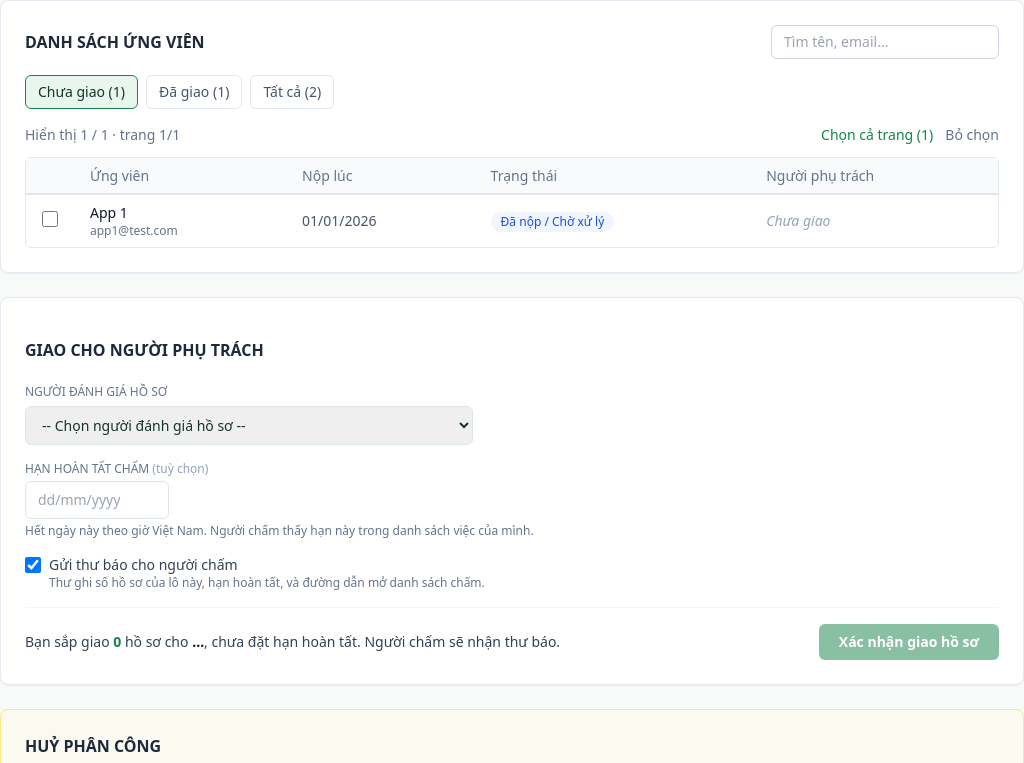
Hạn hoàn tất khi giao hồ sơ › NO_DUE_IS_SAID_OUT_LOUD: leaving it empty is visible before confirming
Select "Reviewer 1 — Người đánh giá hồ sơ" in the dropdown: (249, 426) left=25, top=406, right=473, bottom=445
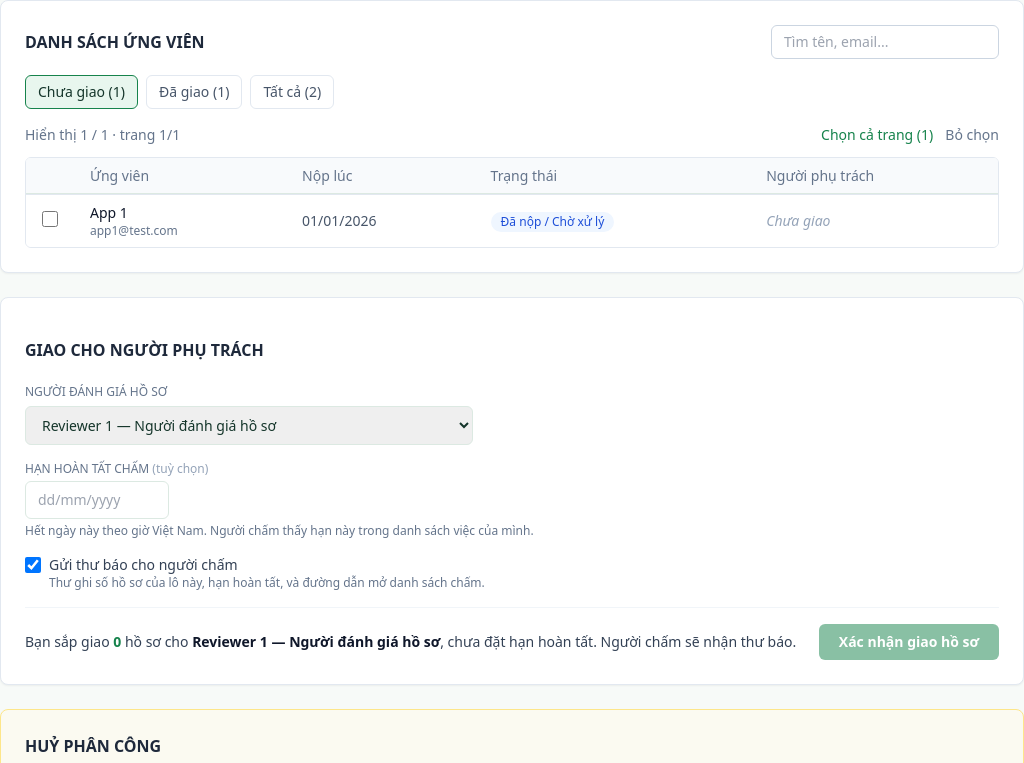
Click the checkbox named "Chọn App 1": (50, 218) left=42, top=210, right=58, bottom=226
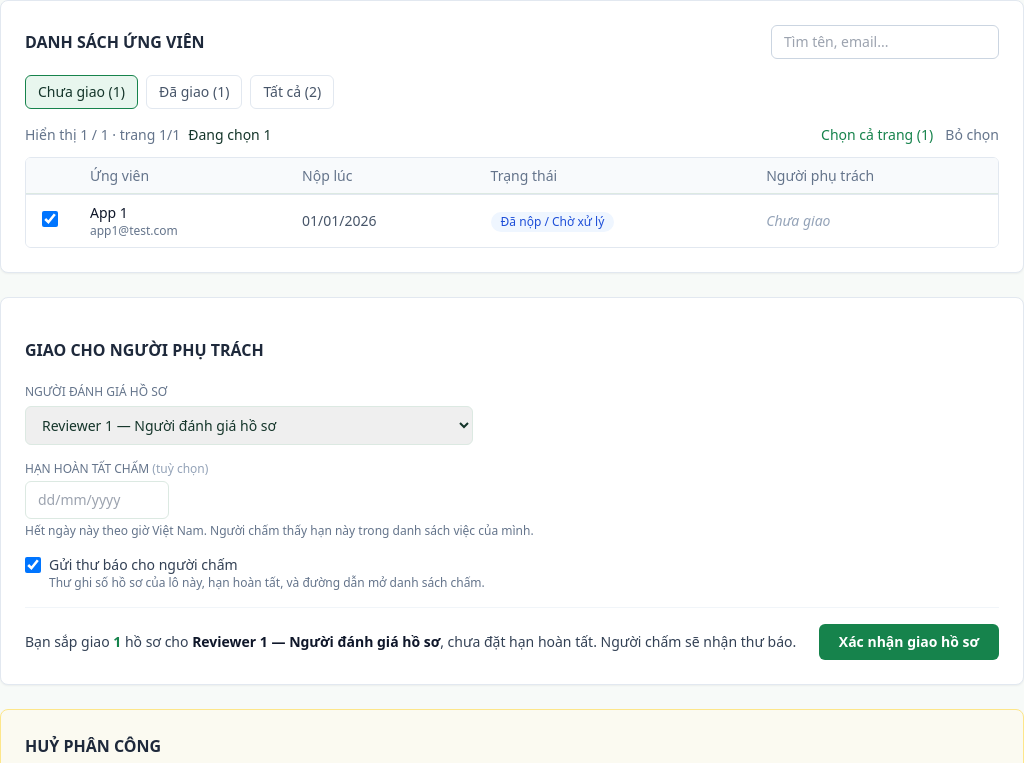
Expected: the text "Bạn sắp giao" shows "chưa đặt hạn hoàn tất", left=440, top=632, right=597, bottom=651
Expected: the button "Xác nhận giao hồ sơ" is enabled, left=819, top=624, right=999, bottom=660
